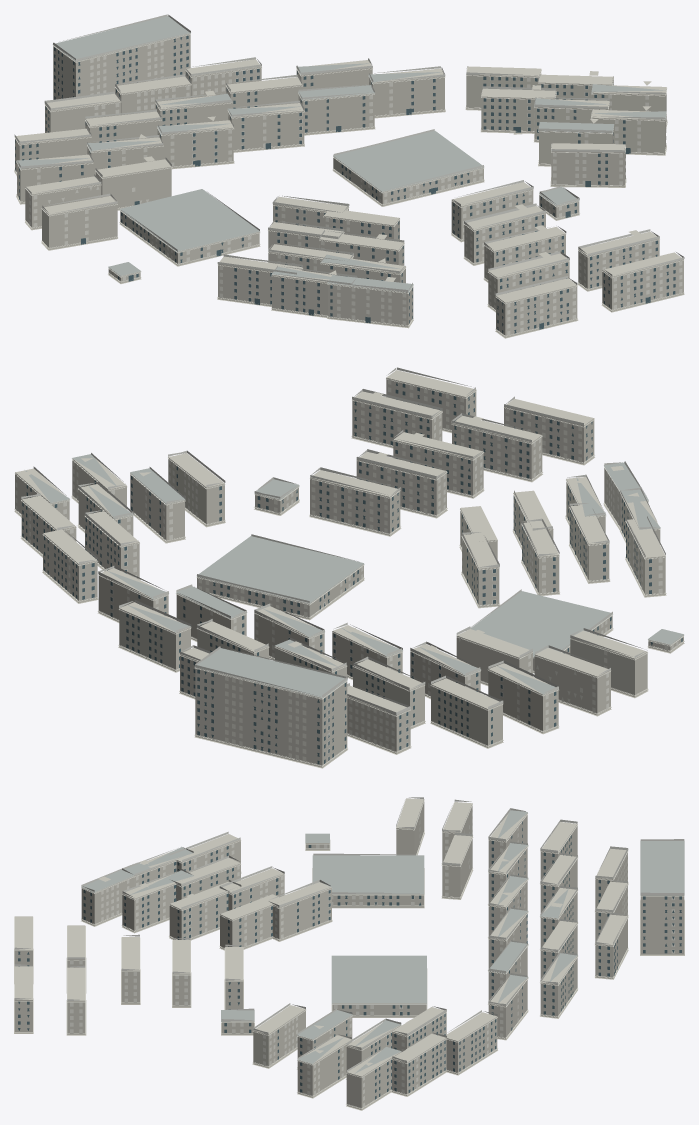
Rendered from shared-03-medium.glb.
3 renders of one model, top to bottom at view 1: azimuth 30°, elevation 25°; view 2: azimuth 150°, elevation 25°; view 3: azimuth 270°, elevation 25°, orthographic. The views are drawn at different scales.
Visible parts, largest first — view 1: Weathered flat roof details.004, Window frames and coping details.004, Pale limestone details.004, Dark blue grey glazing details.004, 留学生公寓.001, Walkway stone details.004, 北区宿舍 · 图示楼栋 40.001, 北区宿舍 · 图示楼栋 41.001, 北区宿舍 · 图示楼栋 17.001, 北区宿舍 · 图示楼栋 25.001, 北区宿舍 · 图示楼栋 34.001, 北区宿舍 · 图示楼栋 12.001 (+39 smaller); view 2: Weathered flat roof details.004, Window frames and coping details.004, Pale limestone details.004, 留学生公寓.001, Dark blue grey glazing details.004, Walkway stone details.004, 北区宿舍 · 图示楼栋 35.001, 北区宿舍 · 图示楼栋 04.001, 北区宿舍 · 图示楼栋 38.001, 北区宿舍 · 图示楼栋 15.001, 北区宿舍 · 图示楼栋 40.001, 北区宿舍 · 图示楼栋 39.001 (+35 smaller); view 3: Weathered flat roof details.004, Window frames and coping details.004, Pale limestone details.004, Dark blue grey glazing details.004, Walkway stone details.004, 留学生公寓.001, 北区宿舍 · 图示楼栋 26.001, 北区宿舍 · 图示楼栋 31.001, 北区宿舍 · 图示楼栋 18.001, 北区宿舍 · 图示楼栋 19.001, 北区宿舍 · 图示楼栋 28.001, 北区宿舍 · 图示楼栋 25.001 (+38 smaller).
Boxes of the visible parts, x1,y1,x2,y2 form: Weathered flat roof details.004: [16, 16, 666, 292]; Window frames and coping details.004: [14, 34, 684, 336]; Pale limestone details.004: [14, 14, 684, 295]; Dark blue grey glazing details.004: [15, 35, 675, 333]; 留学生公寓.001: [53, 33, 190, 99]; Walkway stone details.004: [14, 105, 684, 338]; 北区宿舍 · 图示楼栋 40.001: [496, 278, 577, 337]; 北区宿舍 · 图示楼栋 41.001: [602, 252, 683, 311]; 北区宿舍 · 图示楼栋 17.001: [42, 196, 117, 249]; 北区宿舍 · 图示楼栋 25.001: [551, 143, 625, 187]; 北区宿舍 · 图示楼栋 34.001: [328, 283, 413, 327]; 北区宿舍 · 图示楼栋 12.001: [228, 103, 304, 151]; Weathered flat roof details.004: [25, 454, 683, 698]; Window frames and coping details.004: [14, 378, 683, 766]; Pale limestone details.004: [21, 367, 665, 715]; 留学生公寓.001: [195, 667, 347, 767]; Dark blue grey glazing details.004: [22, 382, 682, 764]; Walkway stone details.004: [14, 429, 684, 768]; 北区宿舍 · 图示楼栋 35.001: [310, 470, 400, 535]; 北区宿舍 · 图示楼栋 04.001: [431, 678, 502, 747]; 北区宿舍 · 图示楼栋 38.001: [452, 415, 542, 481]; 北区宿舍 · 图示楼栋 15.001: [534, 648, 610, 715]; 北区宿舍 · 图示楼栋 40.001: [504, 399, 594, 464]; 北区宿舍 · 图示楼栋 39.001: [352, 391, 442, 447]; Weathered flat roof details.004: [81, 810, 684, 1073]; Window frames and coping details.004: [14, 800, 684, 1108]; Pale limestone details.004: [14, 797, 684, 1071]; Dark blue grey glazing details.004: [18, 821, 681, 1099]; Walkway stone details.004: [14, 831, 684, 1110]; 留学生公寓.001: [640, 895, 684, 954]; 北区宿舍 · 图示楼栋 26.001: [272, 882, 331, 940]; 北区宿舍 · 图示楼栋 31.001: [169, 881, 240, 939]; 北区宿舍 · 图示楼栋 18.001: [446, 1012, 497, 1074]; 北区宿舍 · 图示楼栋 19.001: [392, 1033, 446, 1095]; 北区宿舍 · 图示楼栋 28.001: [220, 894, 284, 949]; 北区宿舍 · 图示楼栋 25.001: [253, 1005, 305, 1067].
Bounding box in the file's own units: 291 × 30.59 × 296.
